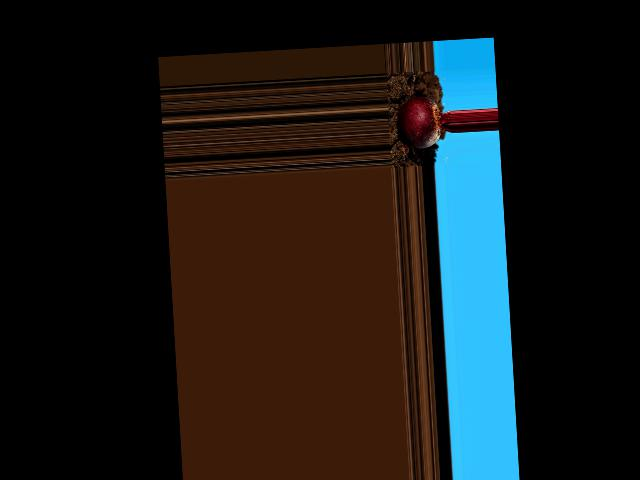beet: (395, 94, 453, 150)
